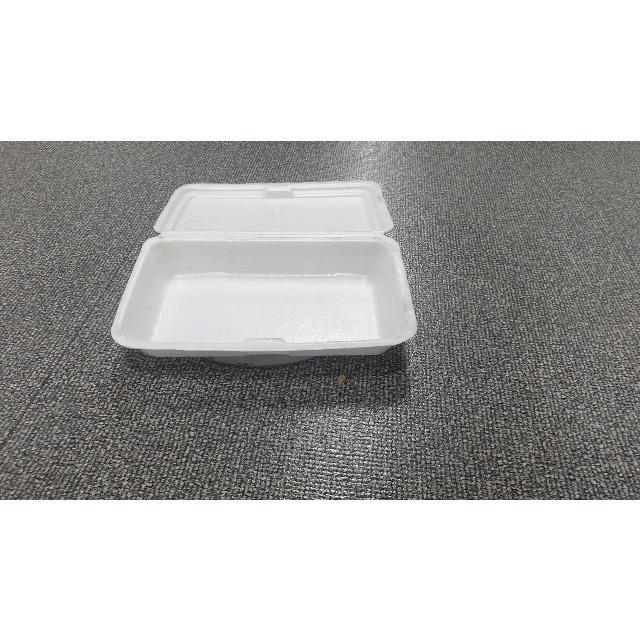Recipiente plastico: (111, 181, 416, 364)
